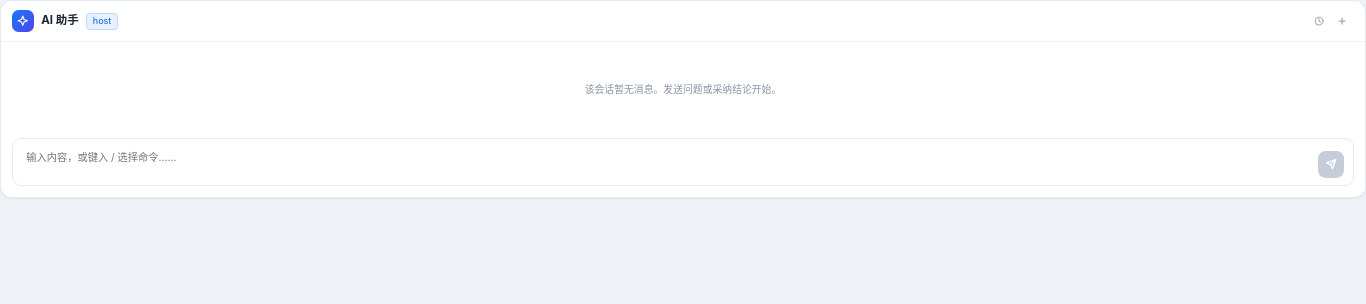
it: ChatWidget 发送（§3.2/§8） › 发送失败：错误行入线程，不静默消失
Type "触发失败" into the text box named "消息输入" at (667,162), box [24,146,1311,178]
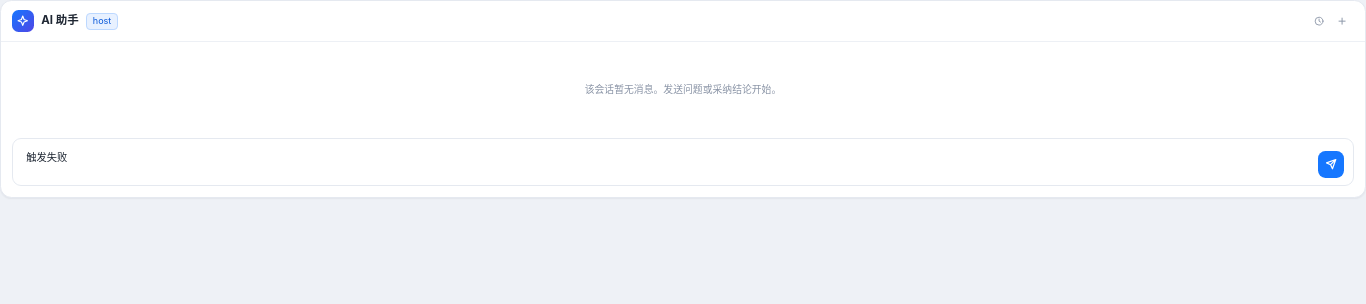
Click the button named "发送" at (1331,165), box [1318,152,1344,178]
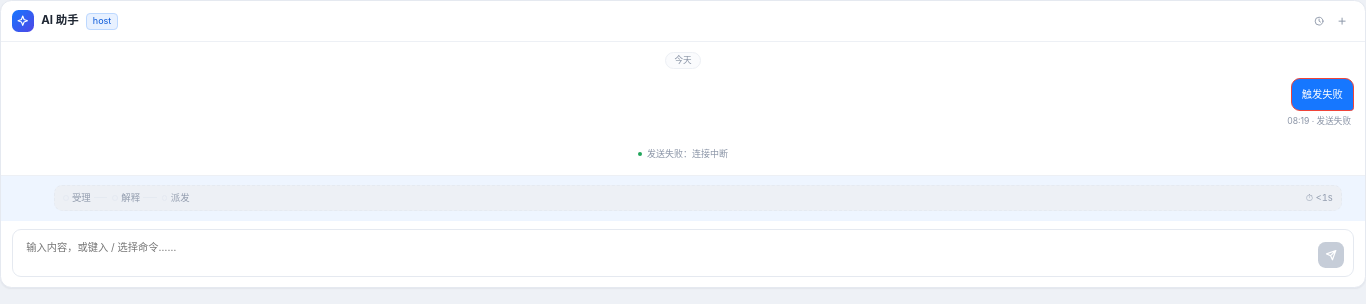
Check: the text "发送失败：连接中断" is shown, box [638,147,728,161]
